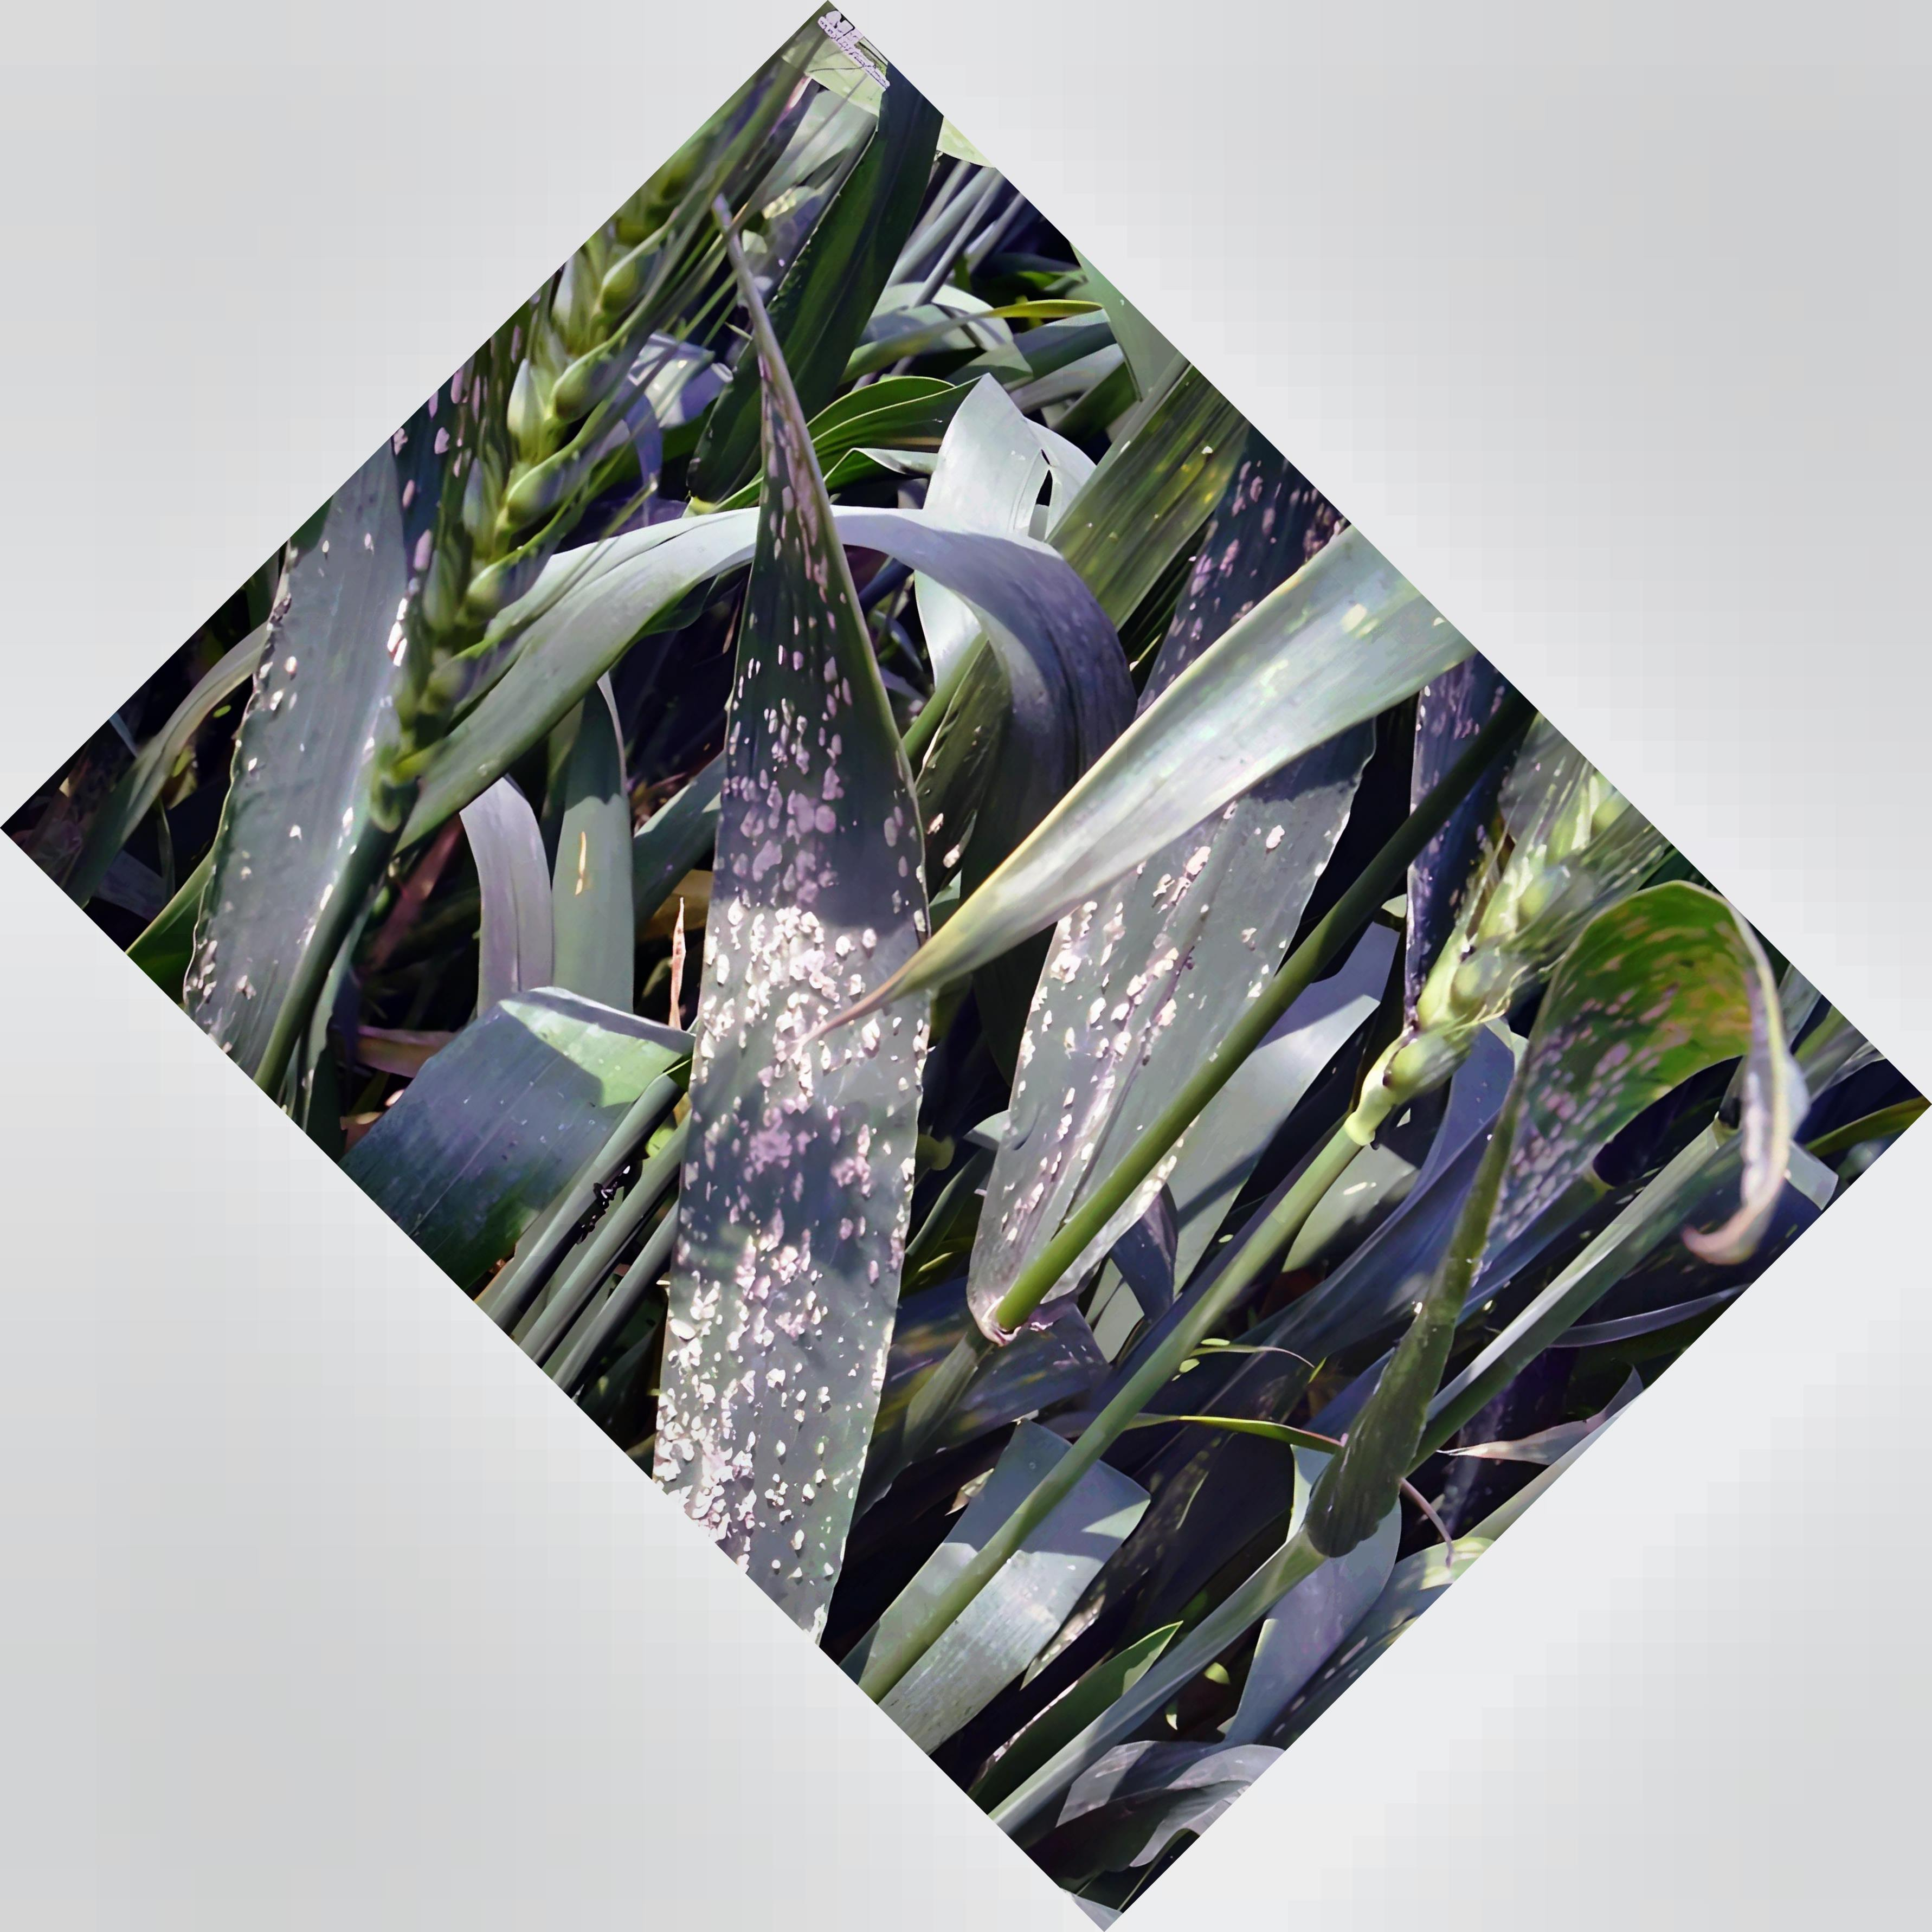Powdery Mildew: (655, 432, 913, 1599)
